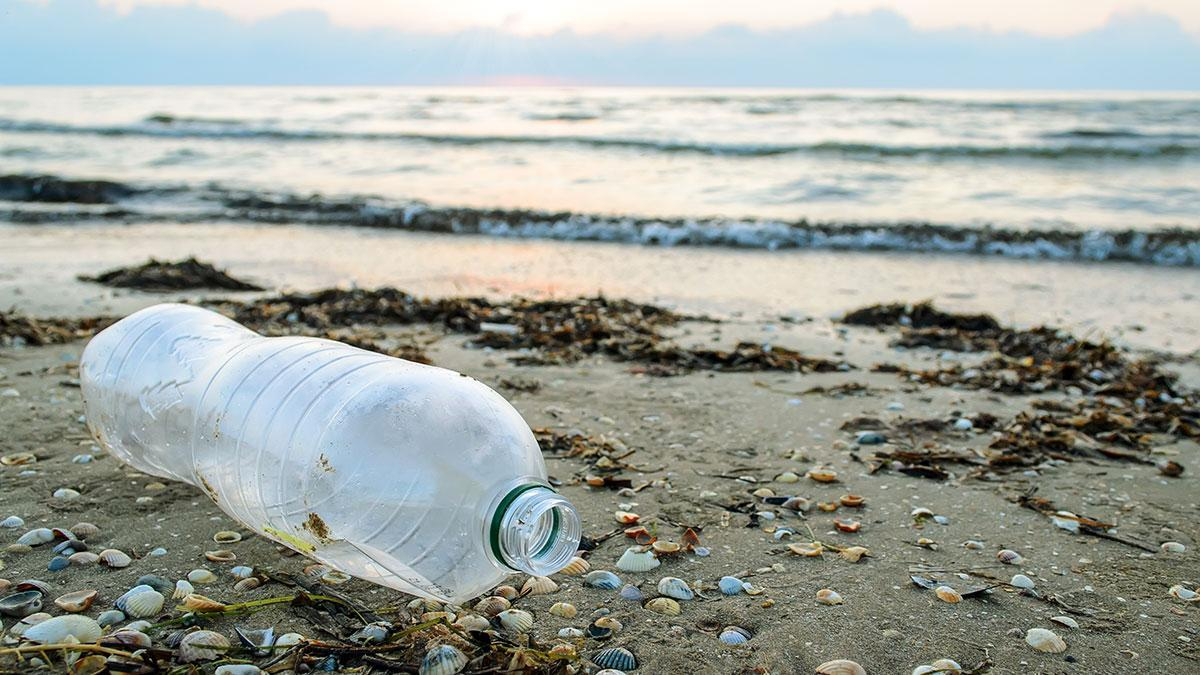bottle: (78, 299, 587, 610)
